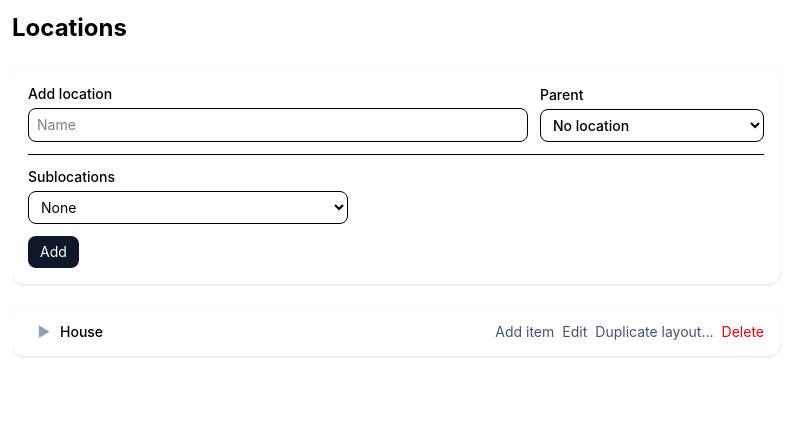
Test case: LocationsView › flips the chevron's aria-expanded and label with the toggle
Click the button "▶". click: [44, 332]
box: [28,316,60,348]
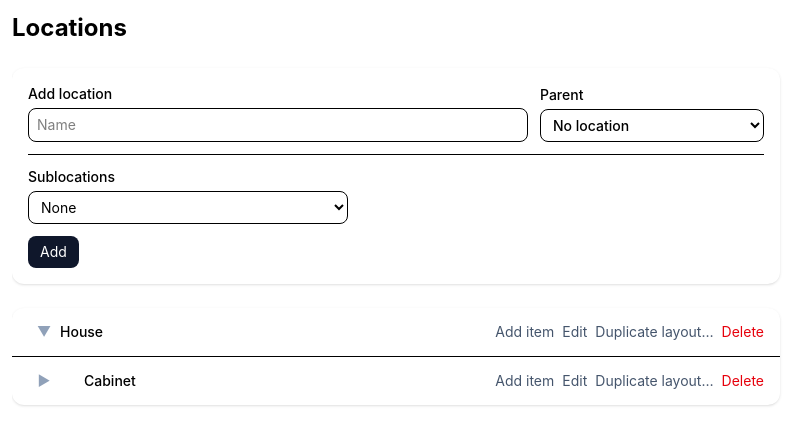
Expected: the button "▼" is expanded
Expected: the button "▼" is shown
Click the button "▼". click: [44, 332]
box: [28,316,60,348]
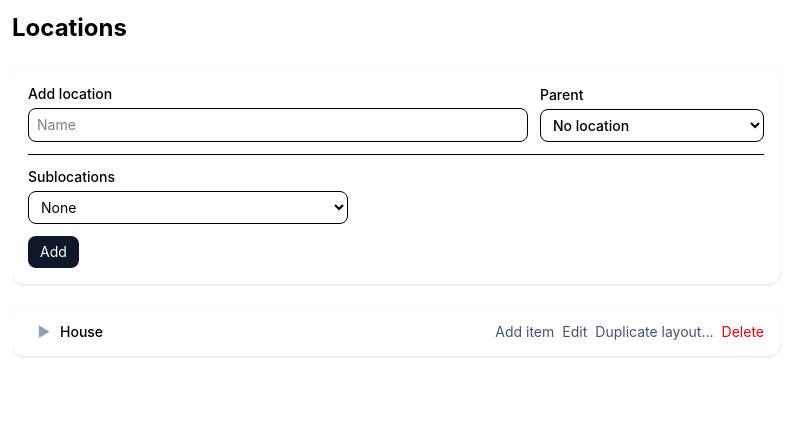
Expected: the button "▶" is collapsed, [28,316,60,348]
